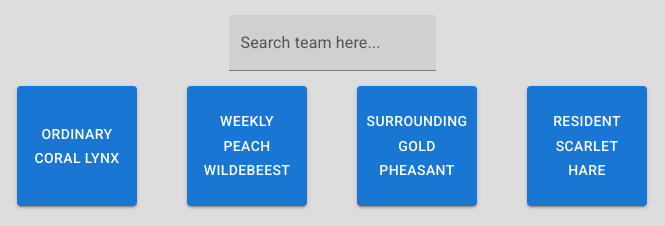
Test: <TeamsOverview /> › should show no teams
Expected: the text "Resident Scarlet Hare" is shown, [553,113,621,178]
Type "Fifth" into the field labelled "Search team here..." at (332, 43), box [228,15,436,71]
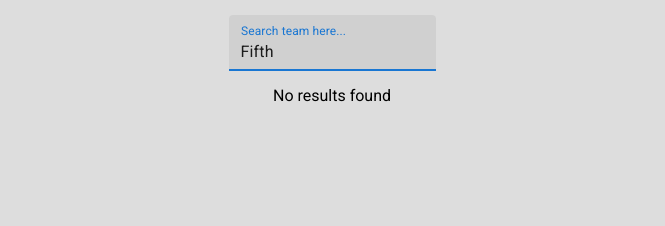
Expected: the button "Ordinary Coral Lynx" is gone
